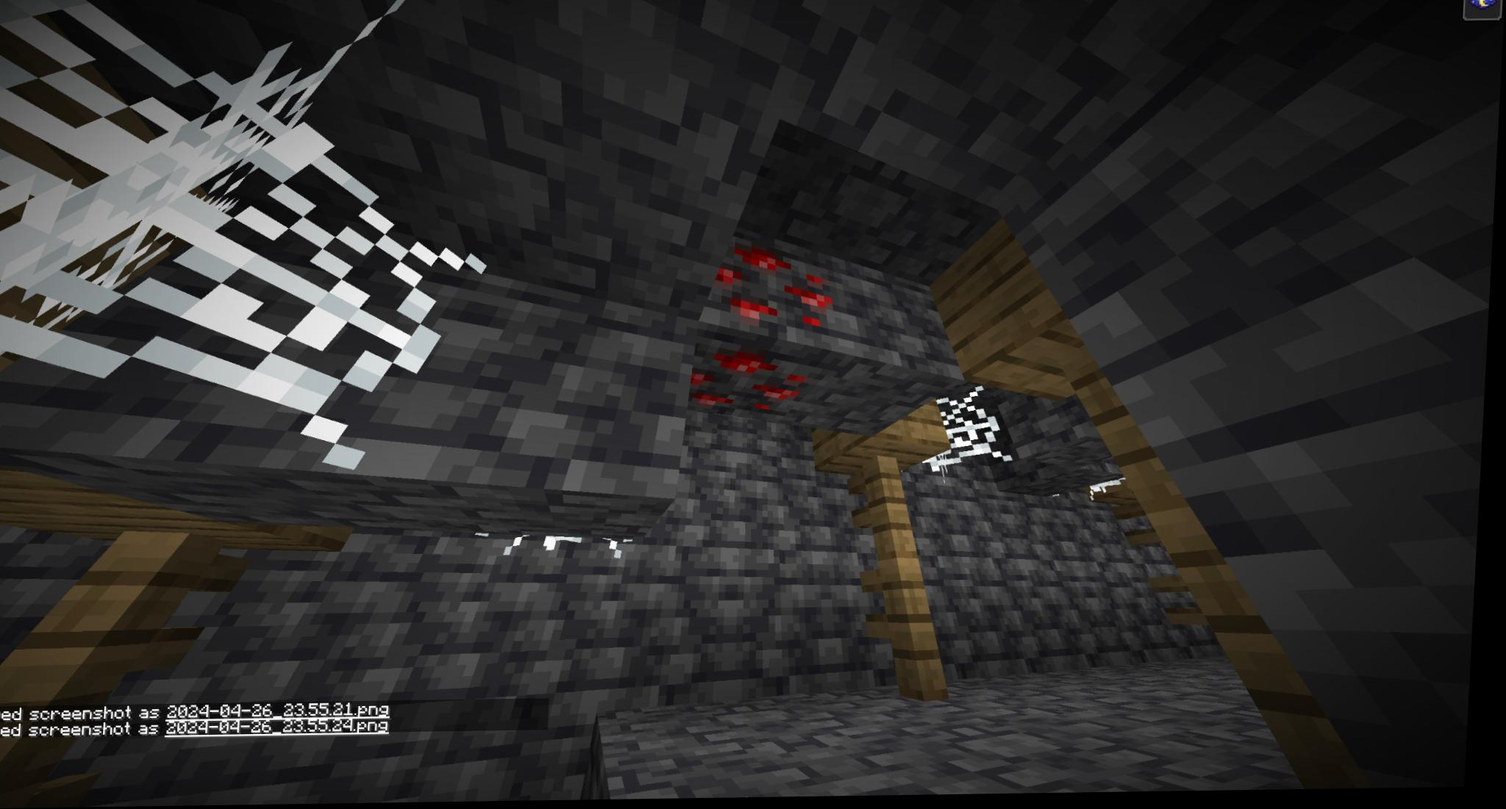redstone ore: (705, 235, 856, 349), (695, 339, 810, 423)
